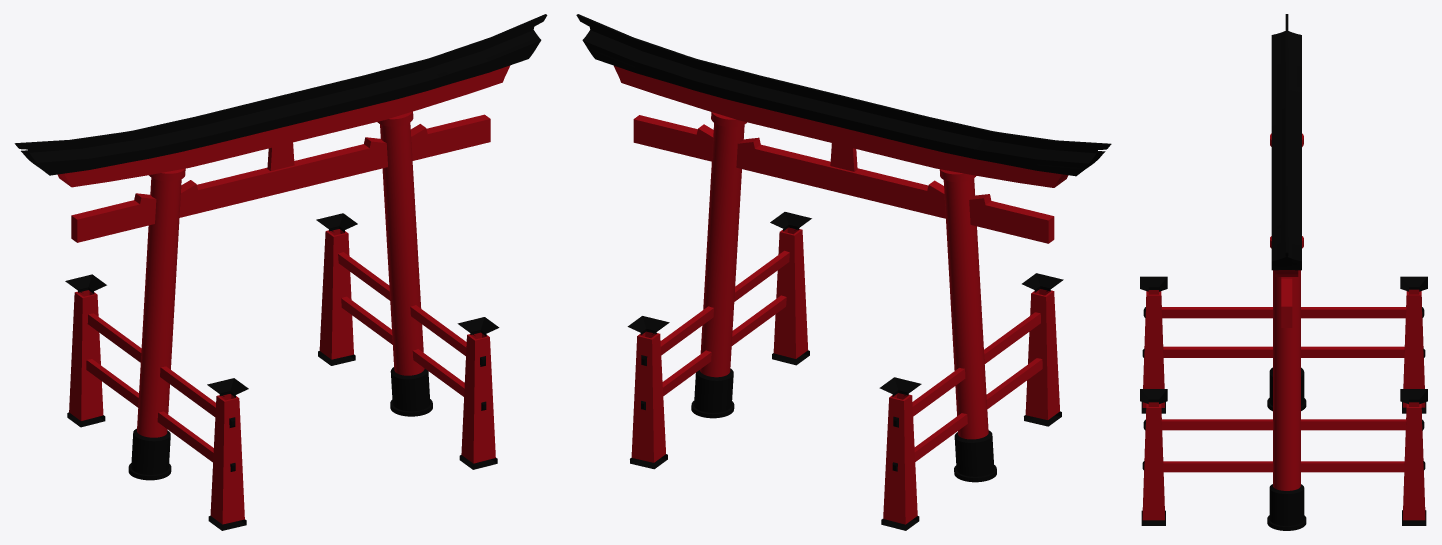
Rendered from Ryoubu_2.fbx.
3 renders of one model, left to right at view 1: azimuth 30°, elevation 25°; view 2: azimuth 150°, elevation 25°; view 3: azimuth 270°, elevation 25°, orthographic. The views are drawn at different scales.
Visible parts, largest first — view 1: Cube.039; view 2: Cube.039; view 3: Cube.039.
Part boxes in pixels (x1,y1,x2,y2): Cube.039: [14, 14, 547, 530]; Cube.039: [576, 14, 1111, 530]; Cube.039: [1140, 14, 1427, 530].
Bounding box in the file's own units: 2047 × 1327 × 1044.
